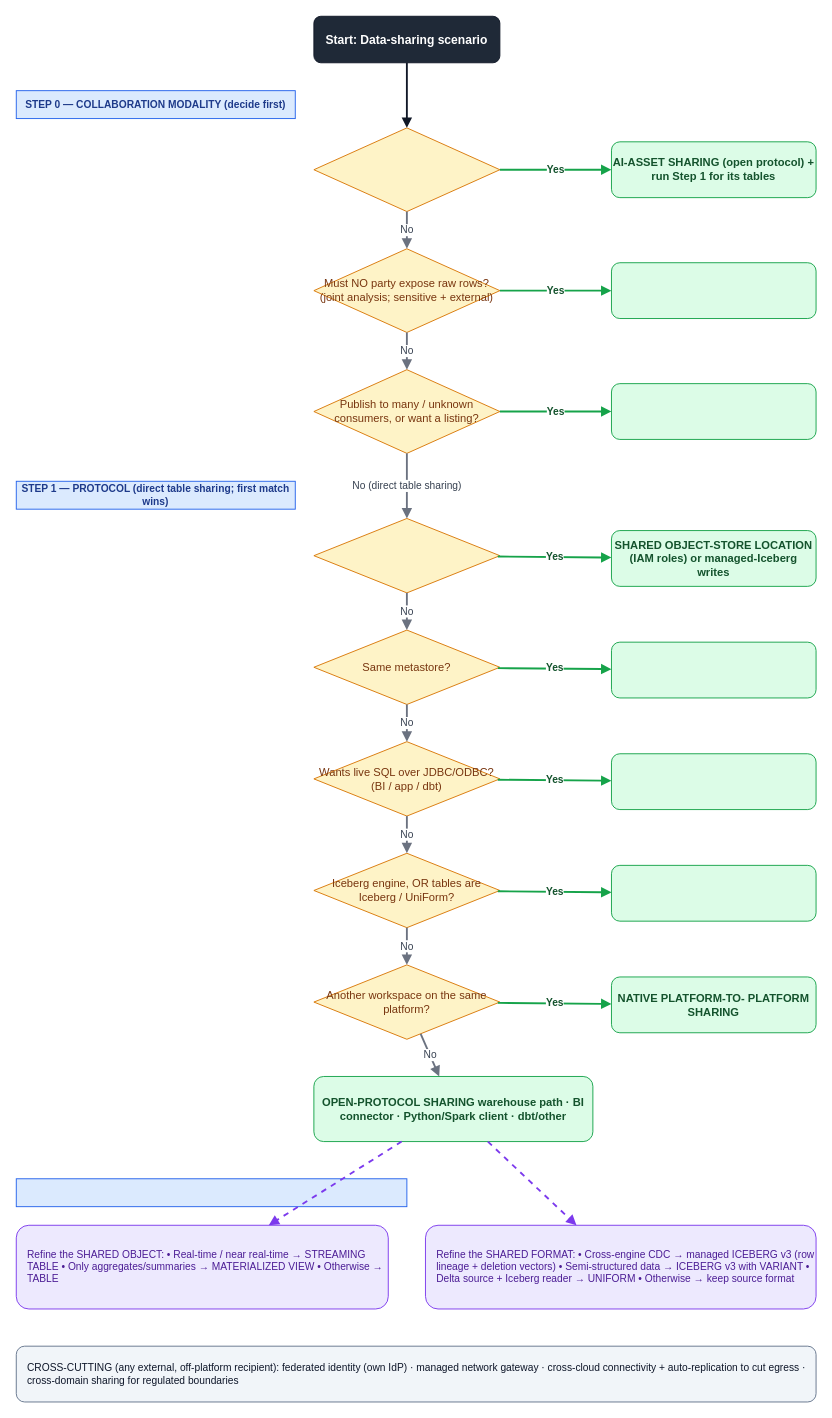
Image size: 832x1418. Some labels were removed from this diagram. Here are the shapes that lost their labels. From the top down, the centre of each, then its label:
At [406,169]: "Sharing a model, agent, or unstructured files? (or want NL Q&A?)".
At [713,290]: "CLEAN ROOM (privacy-centric collaboration)".
At [713,411]: "MARKETPLACE (broad publishing over open protocol)".
At [406,555]: "Need read-write access?".
At [713,669]: "DIRECT GRANT + cross-catalog views (zero copy, live)".
At [713,781]: "JDBC/ODBC over a SQL WAREHOUSE (provider pays compute)".
At [713,892]: "ICEBERG REST SHARING (live, zero-copy, central governance)".
At [211,1192]: "STEP 1b — SHARED OBJECT | STEP 1c — SHARED FORMAT".
